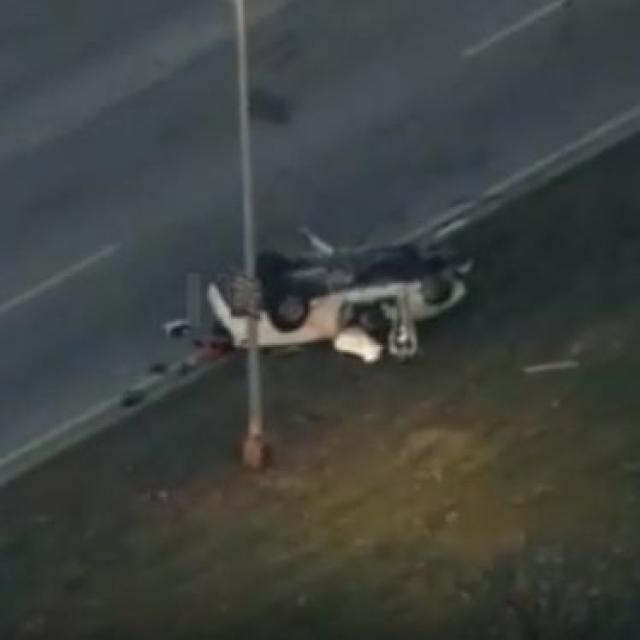traffic_incident: (183, 218, 472, 360)
